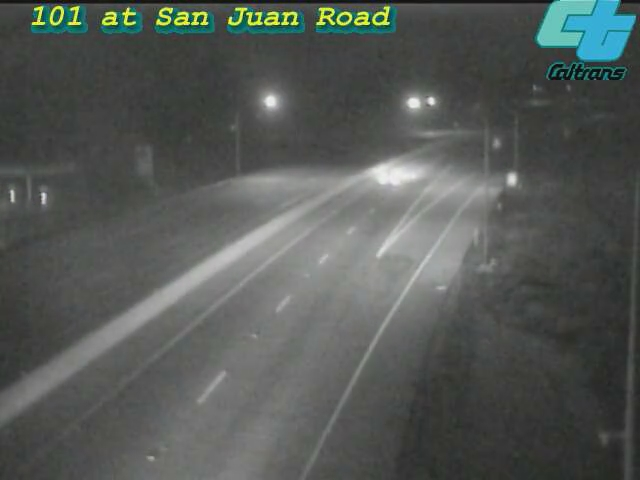vehicle: (353, 136, 433, 216)
